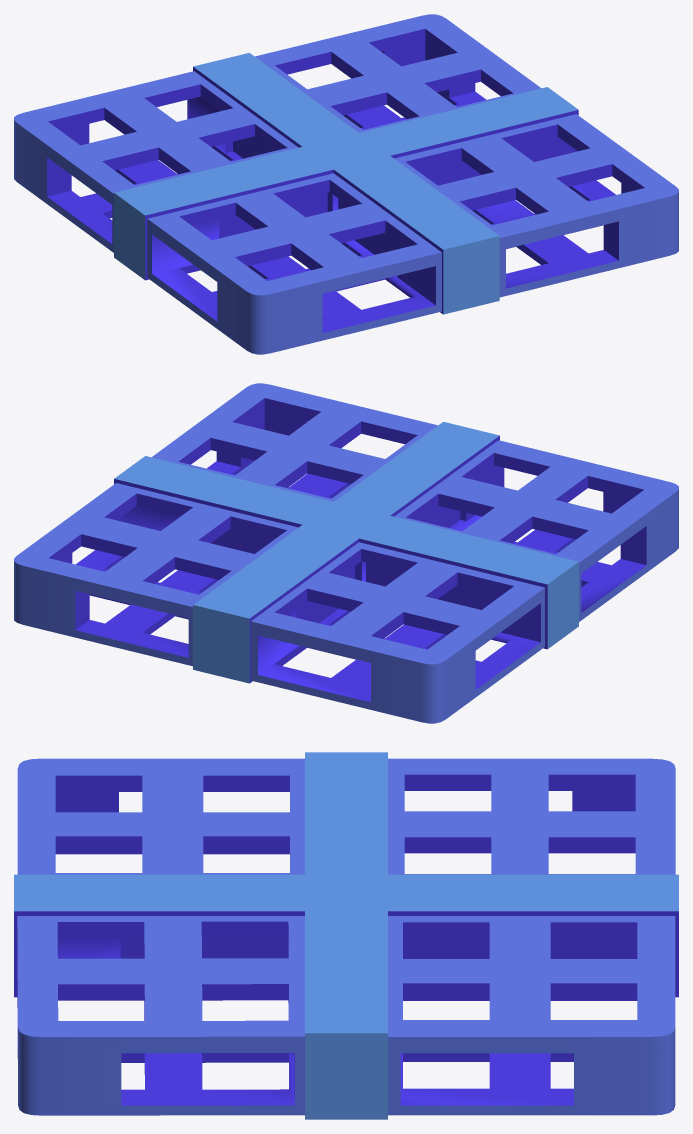
The model's file is Blue_Pallet.fbx.
3 views of the same model, one above another, from view 1: azimuth 30°, elevation 25°; view 2: azimuth 150°, elevation 25°; view 3: azimuth 270°, elevation 25° (orthographic). The views are drawn at different scales.
Visible parts, largest first — view 1: Blue_Pallet; view 2: Blue_Pallet; view 3: Blue_Pallet.
Boxes of the visible parts, box(x1,y1,x2,y2) form: Blue_Pallet: box(14, 14, 678, 354); Blue_Pallet: box(14, 383, 678, 723); Blue_Pallet: box(14, 752, 678, 1119).
Bounding box in the file's own units: 115 × 16.44 × 115.
